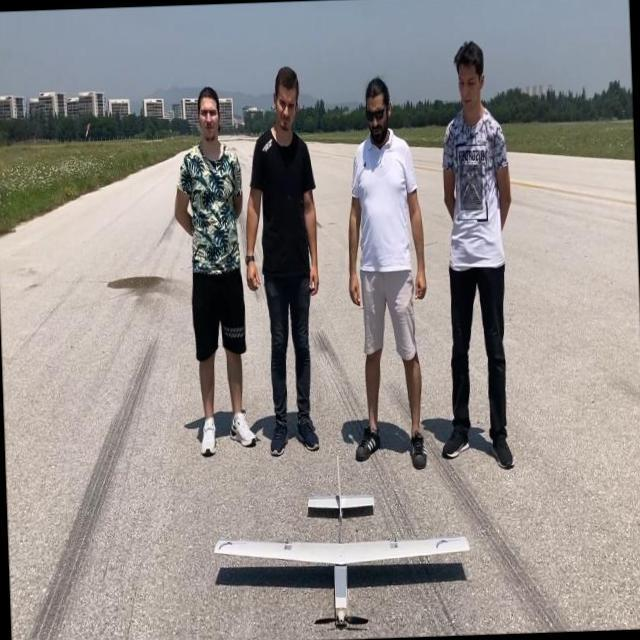iha: (189, 464, 463, 630)
